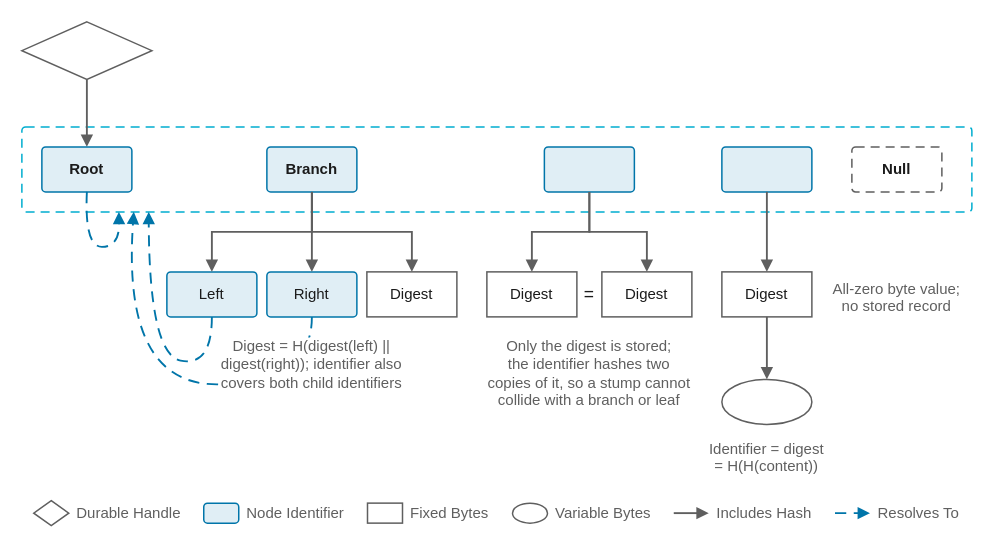
Image size: 995x551. Some labels were removed from this diagram. The shapes that lost their labels are listed below. From the top down, each one's centre as x and y in pixels, then its label:
At [86,50]: "Record".
At [588,169]: "Stump".
At [766,169]: "Leaf".
At [766,401]: "Content".
